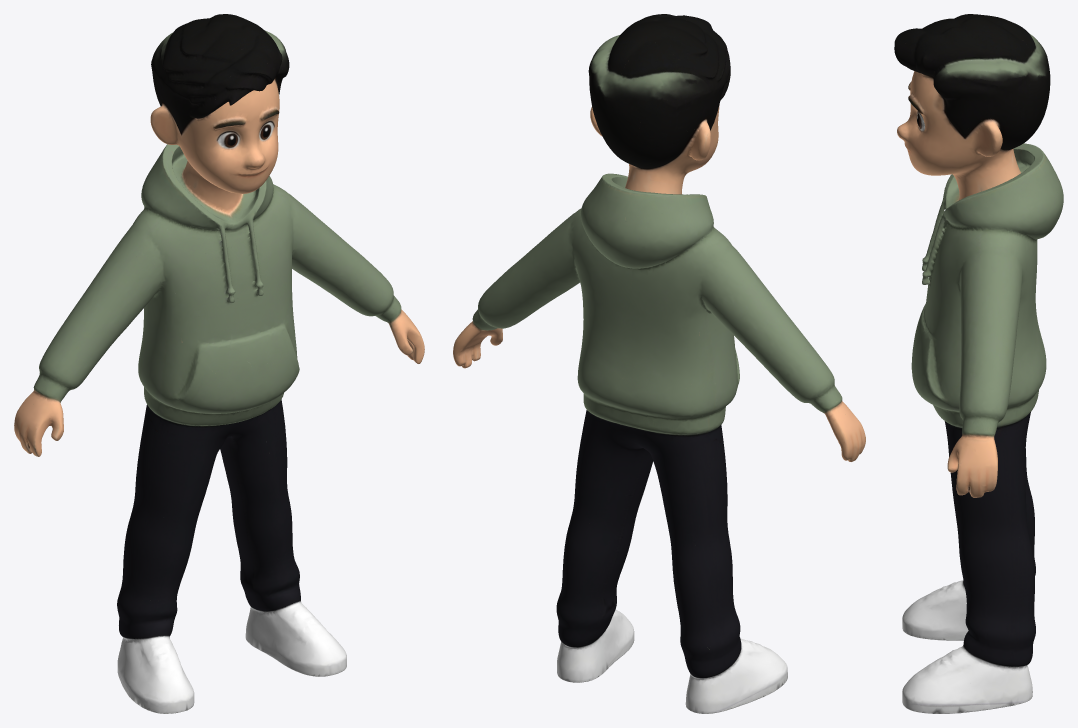
The model's file is meshy-lite.glb.
The picture shows the model from 3 angles, left to right: view 1: azimuth 30°, elevation 25°; view 2: azimuth 150°, elevation 25°; view 3: azimuth 270°, elevation 25°; orthographic projection.
Size of the model in its own units: 1.22 by 1.9 by 0.4503.
Materials: 1 (1 with a texture image).
